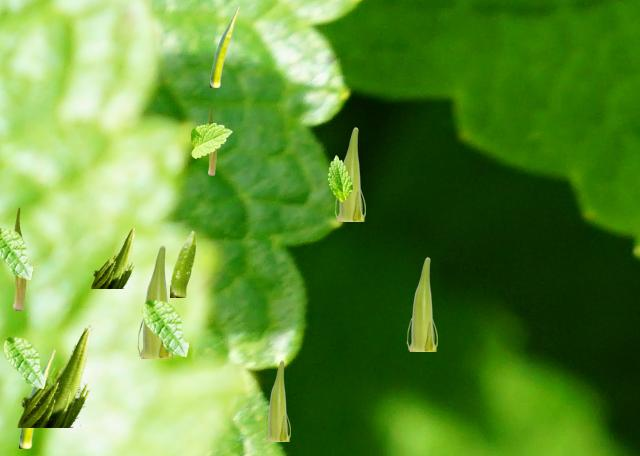okra: (16, 324, 92, 426), (137, 245, 173, 357), (19, 349, 54, 447), (406, 257, 436, 350), (334, 127, 364, 220), (90, 226, 135, 287), (210, 6, 238, 86), (264, 360, 289, 440), (170, 230, 195, 296), (13, 207, 25, 309), (208, 104, 215, 174)
